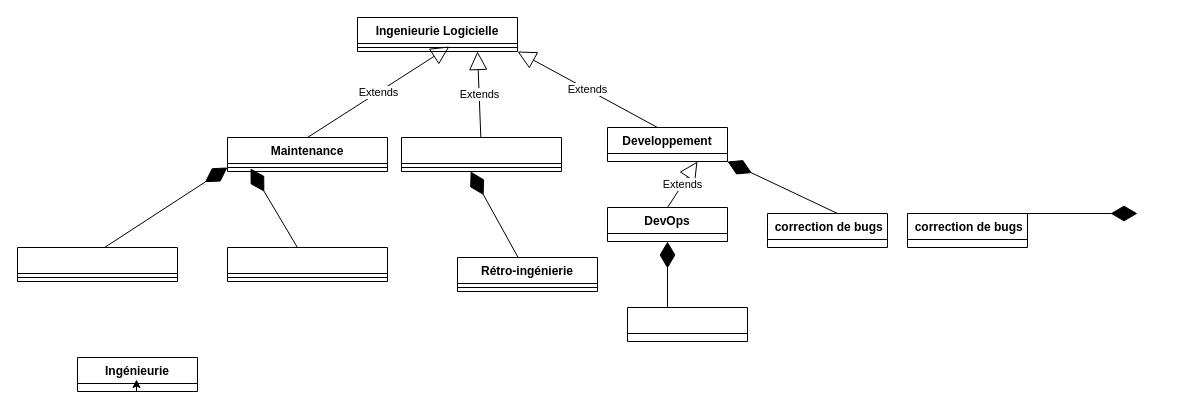
Some shapes in this 1181 by 417 pixel diagram are drawn without their labels. The box of each missing label's shape, as (x1, y1, x2, y2) in pixels:
Adaptative: (16, 246, 178, 282)
Corrective: (226, 246, 388, 282)
intégration continue: (626, 306, 748, 342)
restructuration: (400, 136, 562, 172)
